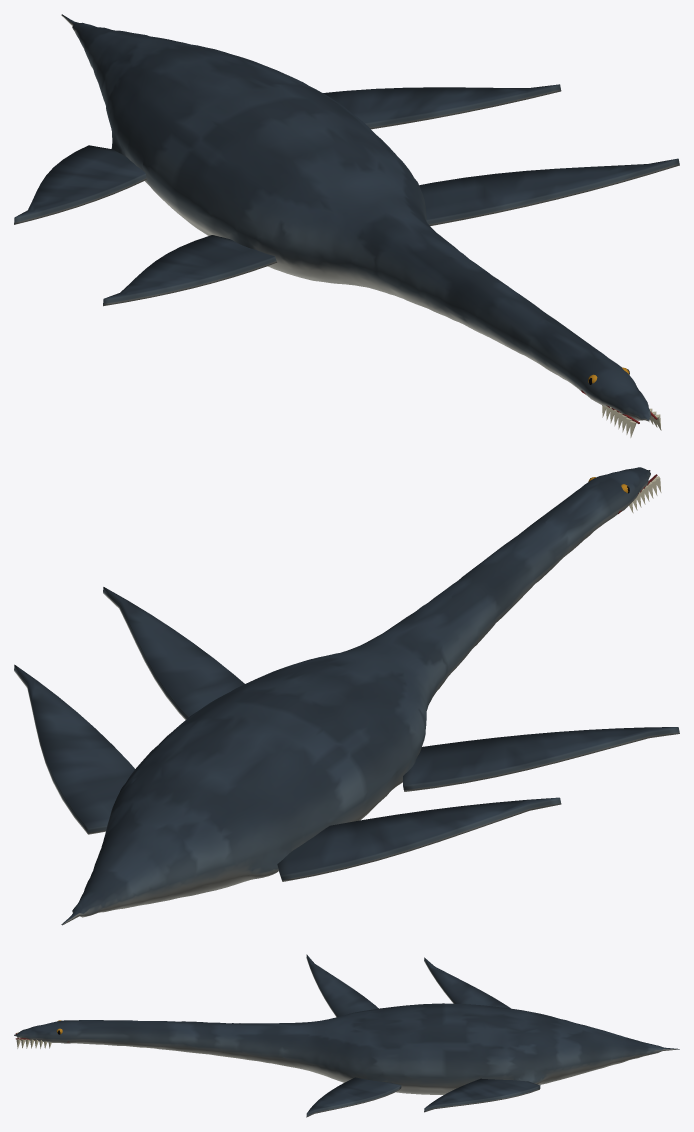
The model's file is Cryptoclidus.fbx.
3 renders of one model, top to bottom at view 1: azimuth 30°, elevation 25°; view 2: azimuth 150°, elevation 25°; view 3: azimuth 270°, elevation 25°, orthographic. The views are drawn at different scales.
Parts seen in each view (by area): view 1: Cryptoclidus; view 2: Cryptoclidus; view 3: Cryptoclidus.
Part boxes in pixels (x1=…): Cryptoclidus: x1=14, y1=14, x2=679, y2=437; Cryptoclidus: x1=14, y1=467, x2=679, y2=925; Cryptoclidus: x1=14, y1=954, x2=679, y2=1117.
Bounding box in the file's own units: 1.19 × 0.2575 × 2.1.
